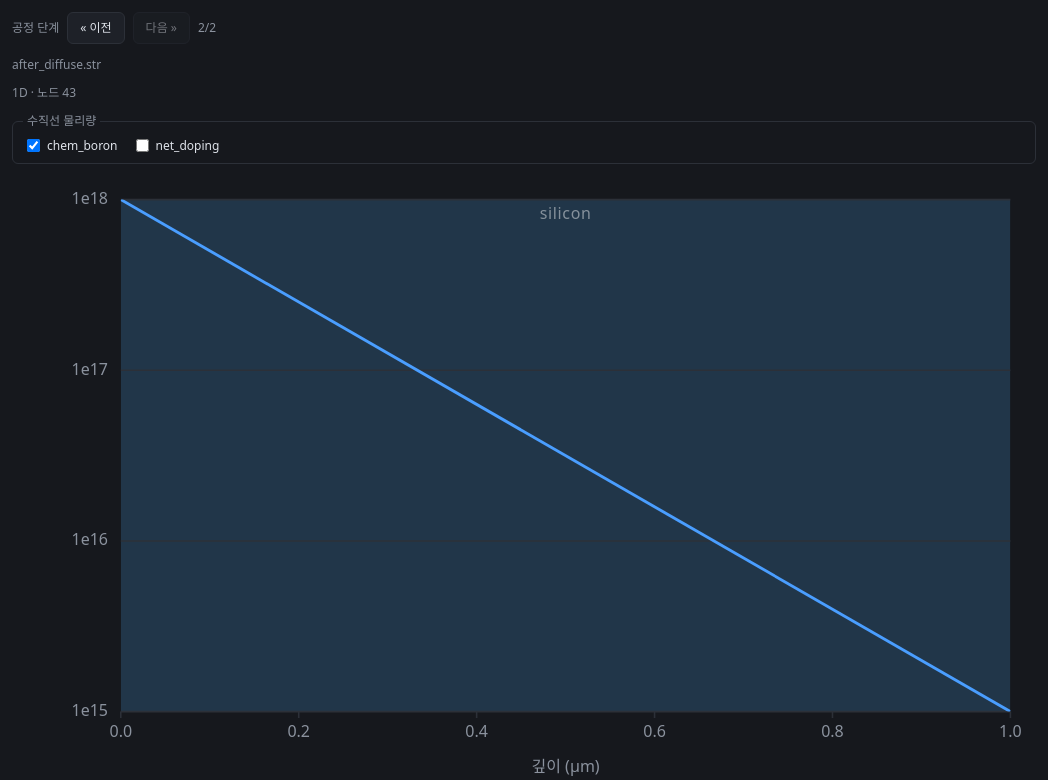
Test: 공정 단계 › 첫 단계에서는 이전이 눌리지 않는다
The width and height of the screenshot is (1048, 780).
Click the button "« 이전": {"x": 96, "y": 28} [67,12,125,44]
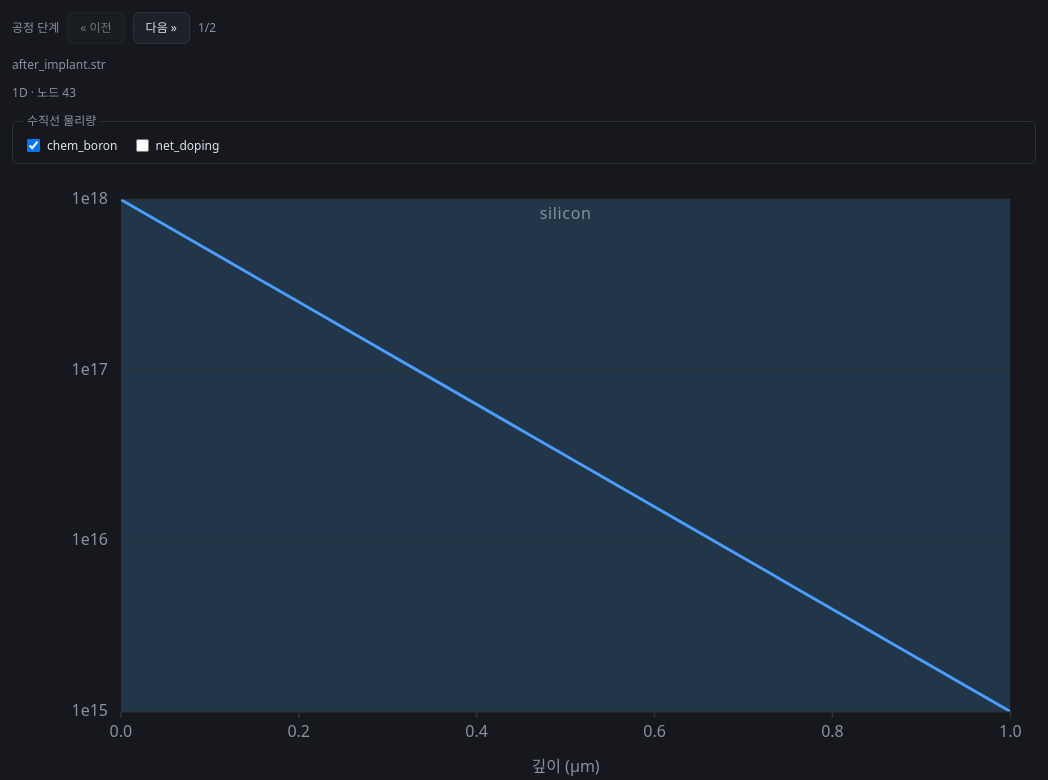
Now the button "« 이전" is disabled, box [67,12,125,44]
